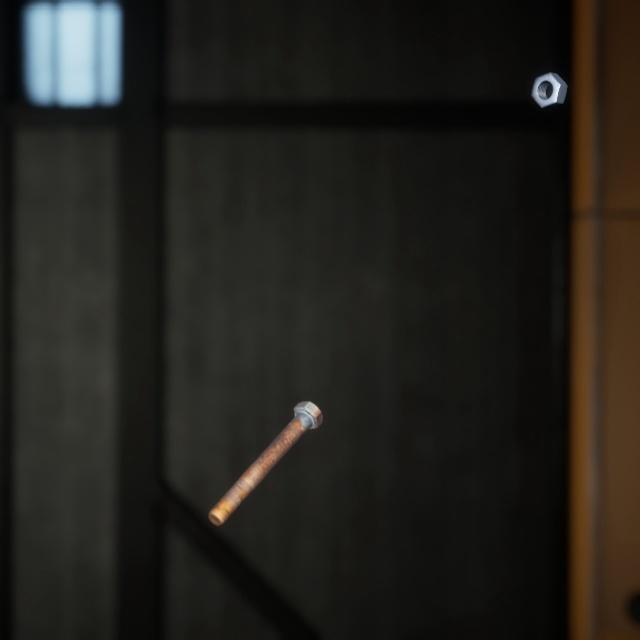bolt: (204, 376, 327, 508)
nut: (526, 57, 571, 102)
